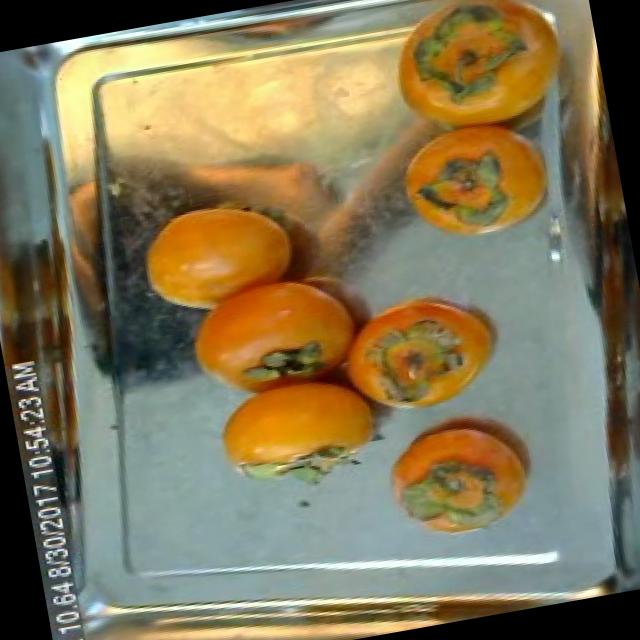Fruit: (115, 182, 315, 336), (323, 276, 520, 429), (363, 393, 551, 548), (382, 107, 521, 250)
